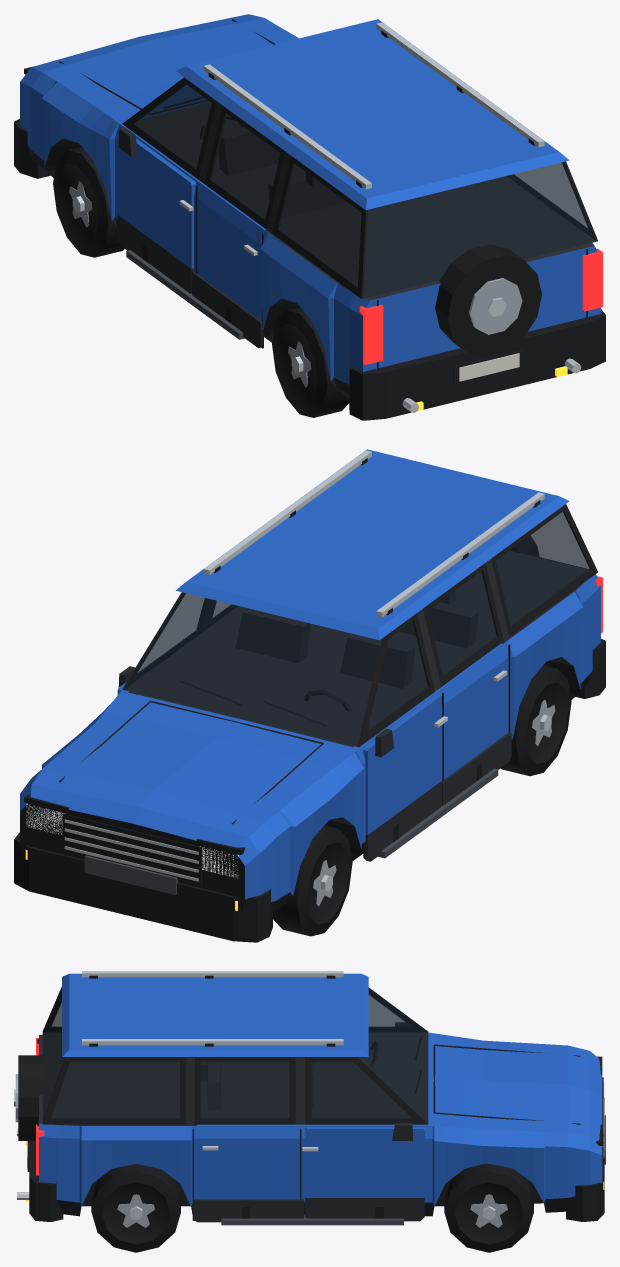
The model's file is suv.glb.
The picture shows the model from 3 angles, top to bottom: view 1: azimuth 30°, elevation 25°; view 2: azimuth 150°, elevation 25°; view 3: azimuth 270°, elevation 25°; orthographic projection. The views are drawn at different scales.
Visible parts, largest first — view 1: Body, DoorL, Wheel_RL, Wheel_FL; view 2: Body, DoorL, Wheel_FL, Wheel_RL, DoorR; view 3: Body, DoorR, Wheel_FR, Wheel_RR, DoorL.
Boxes of the visible parts, x1,y1,x2,y2 form: Body: (14,14,605,420); DoorL: (117,77,216,293); Wheel_RL: (272,307,349,417); Wheel_FL: (53,146,124,257); Body: (14,449,605,942); DoorL: (357,613,447,861); Wheel_FL: (273,825,352,936); Wheel_RL: (501,665,571,776); DoorR: (117,592,208,694); Body: (14,971,605,1225); DoorR: (302,1057,428,1221); Wheel_FR: (444,1163,533,1252); Wheel_RR: (91,1163,180,1252); DoorL: (368,987,428,1031).
Bounding box in the file's own units: 2.01 × 1.8 × 4.87.
